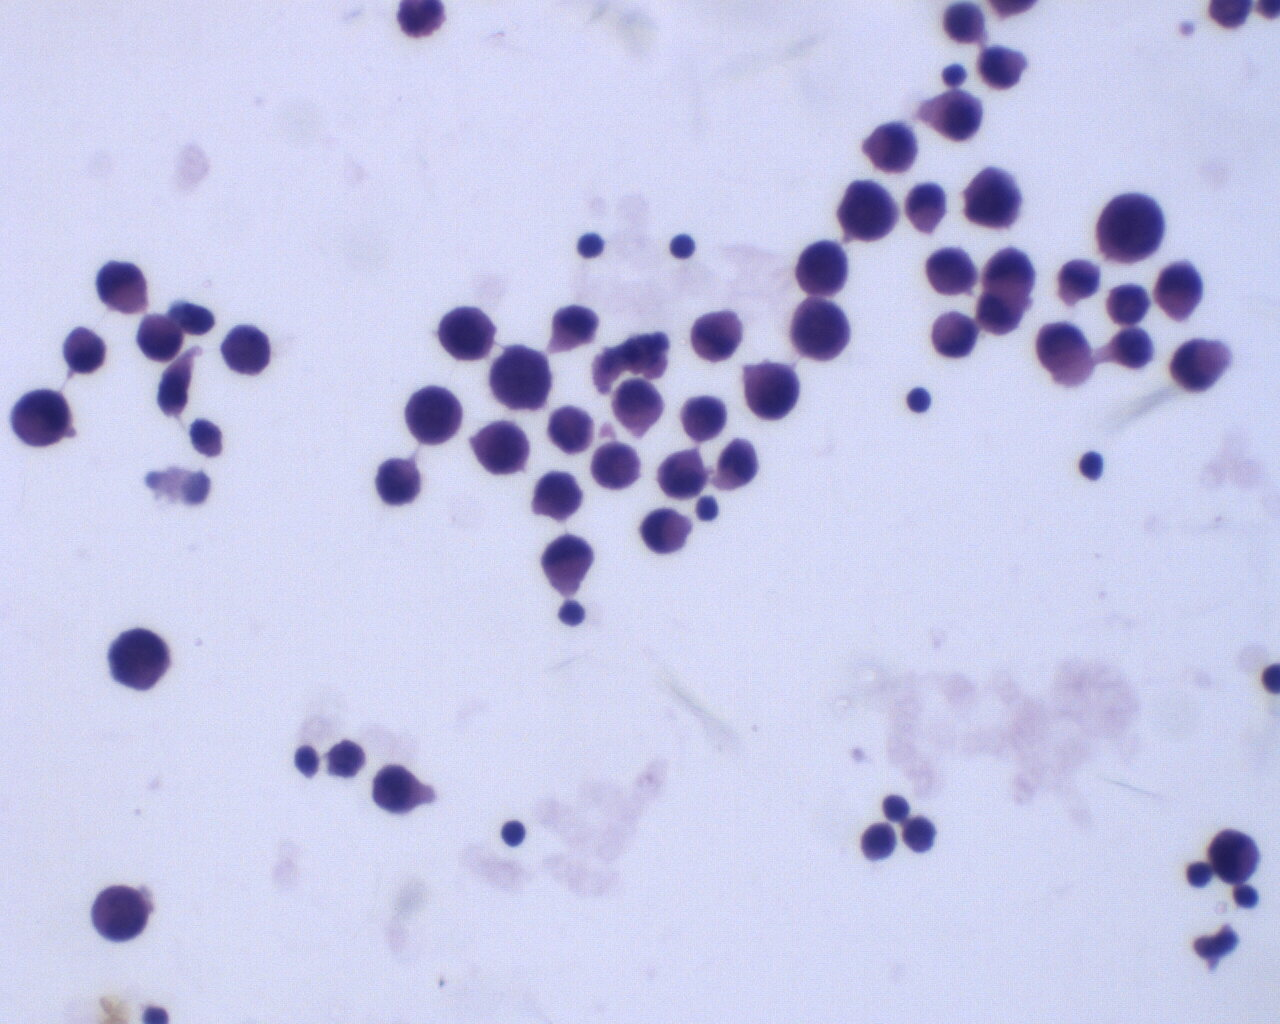ab: (1091, 191, 1167, 269), (491, 338, 558, 415), (11, 382, 78, 452), (830, 176, 900, 241), (786, 299, 855, 365), (1030, 322, 1097, 389), (403, 381, 467, 449), (108, 626, 174, 690), (957, 162, 1020, 230), (739, 359, 802, 423), (470, 419, 536, 481), (91, 881, 152, 946), (1207, 827, 1269, 888), (794, 235, 857, 296), (437, 300, 496, 362), (215, 320, 273, 378), (921, 245, 976, 300), (372, 452, 422, 508), (591, 440, 643, 493)
lymph: (664, 232, 703, 267), (575, 227, 607, 269), (900, 379, 935, 415), (1073, 447, 1108, 482), (496, 815, 529, 851)
